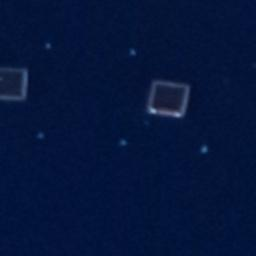square_cover: (142, 74, 191, 121), (1, 65, 33, 103)
